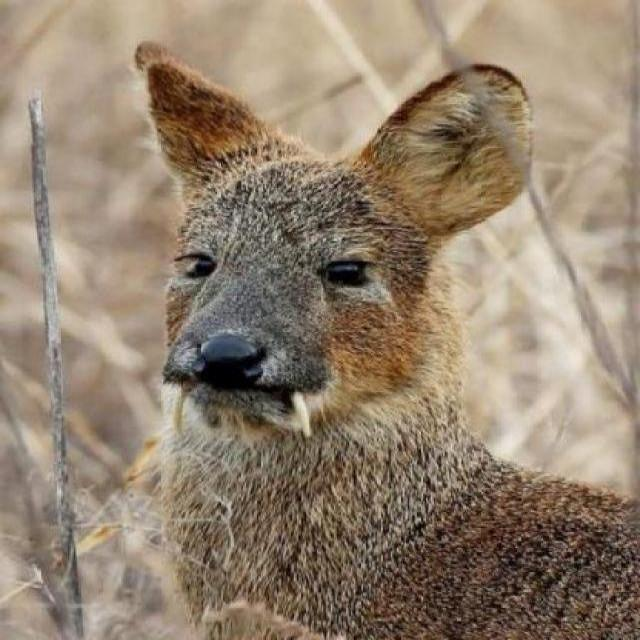deer: (68, 20, 640, 640)
